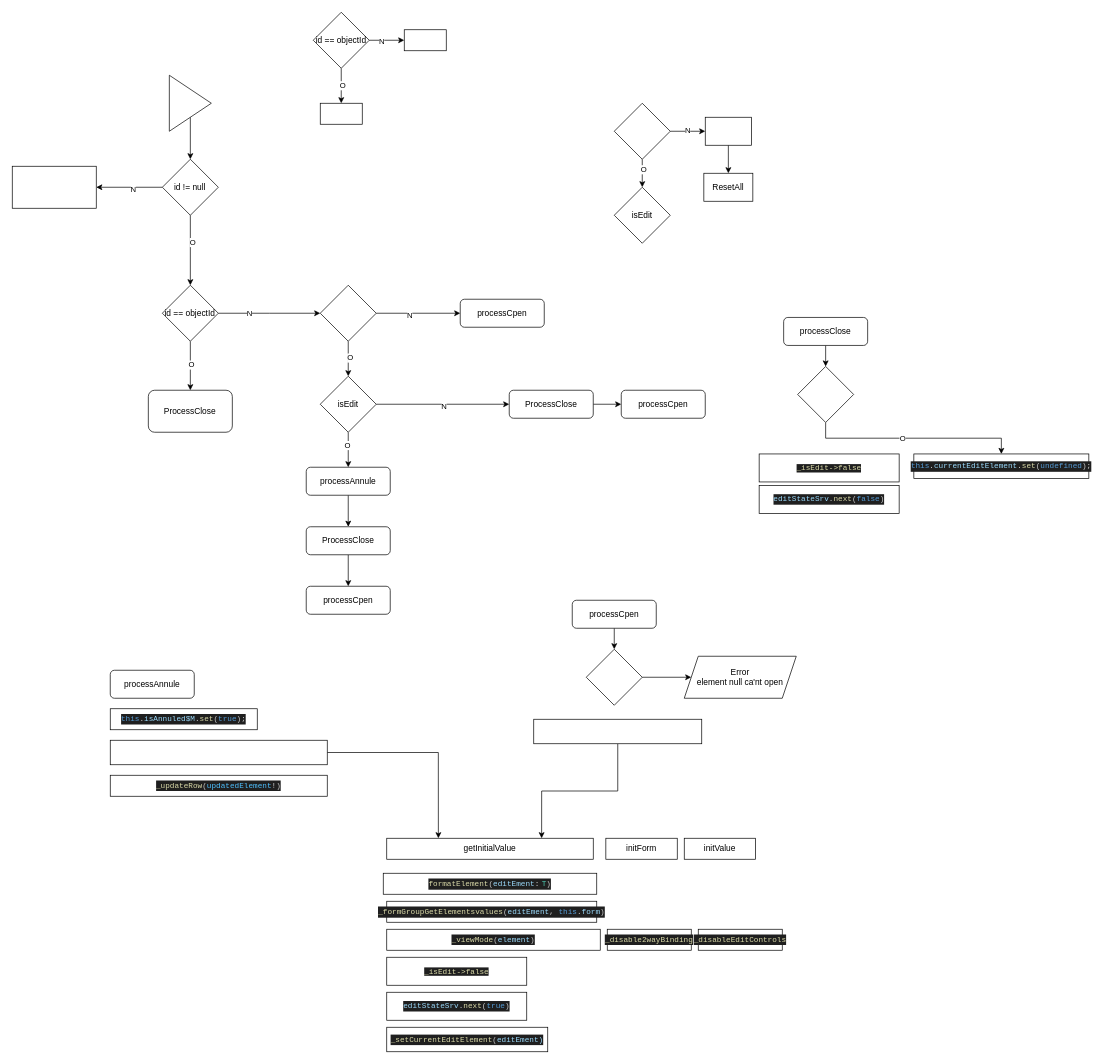
This 1104x1064 diagram has some shape labels left out. Here are the shapes that lost their labels. From the top down, the centre of each, then its label:
At pixel 425 40: "collapsed".
At pixel 190 103: "Click".
At pixel 341 113: "expanded".
At pixel 642 131: "isExpanded".
At pixel 728 131: "LoadTable".
At pixel 54 187: "ReloadTable Error: element Not find".
At pixel 348 313: "isExplanded".
At pixel 825 394: "currentEditElement".
At pixel 614 677: "element".
At pixel 617 731: "const editEment=element".
At pixel 218 752: "updatedElement = await this . aliasService . read".
